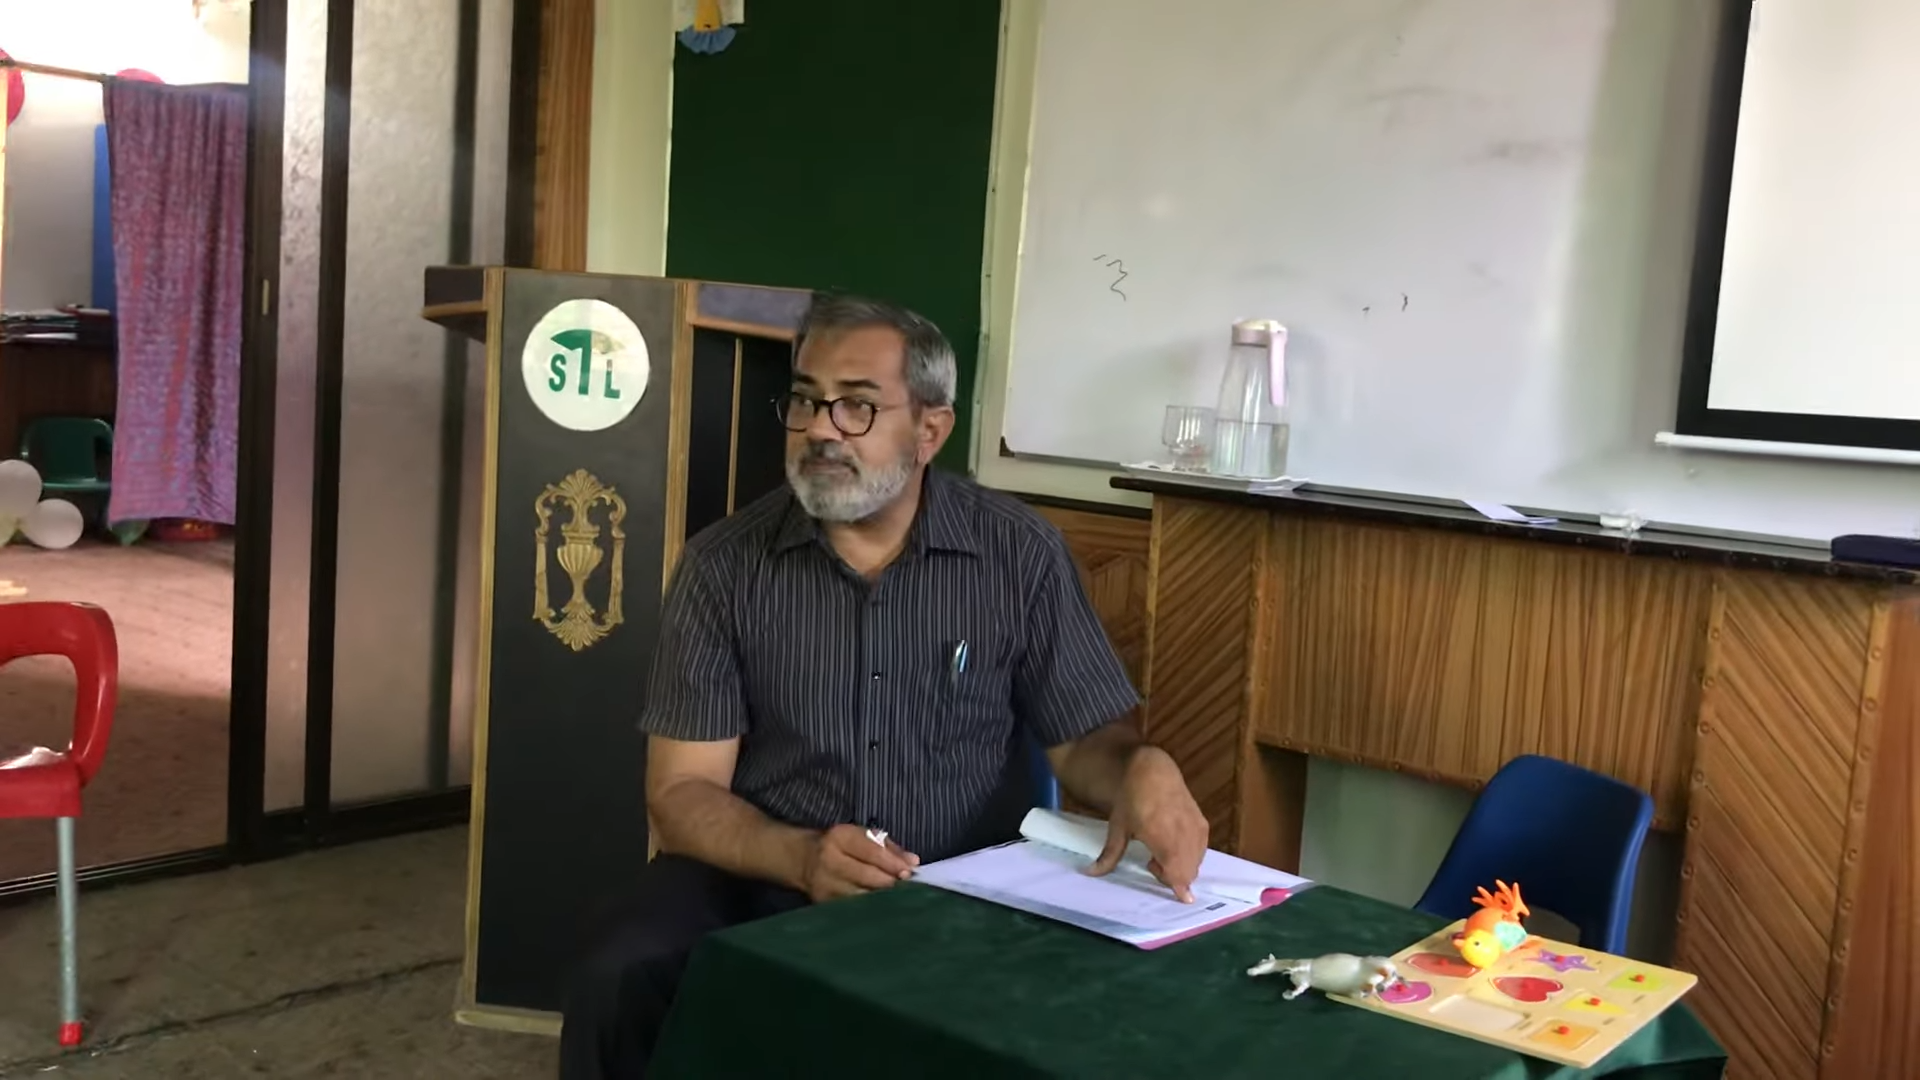Therapist: (549, 247, 1233, 988)
